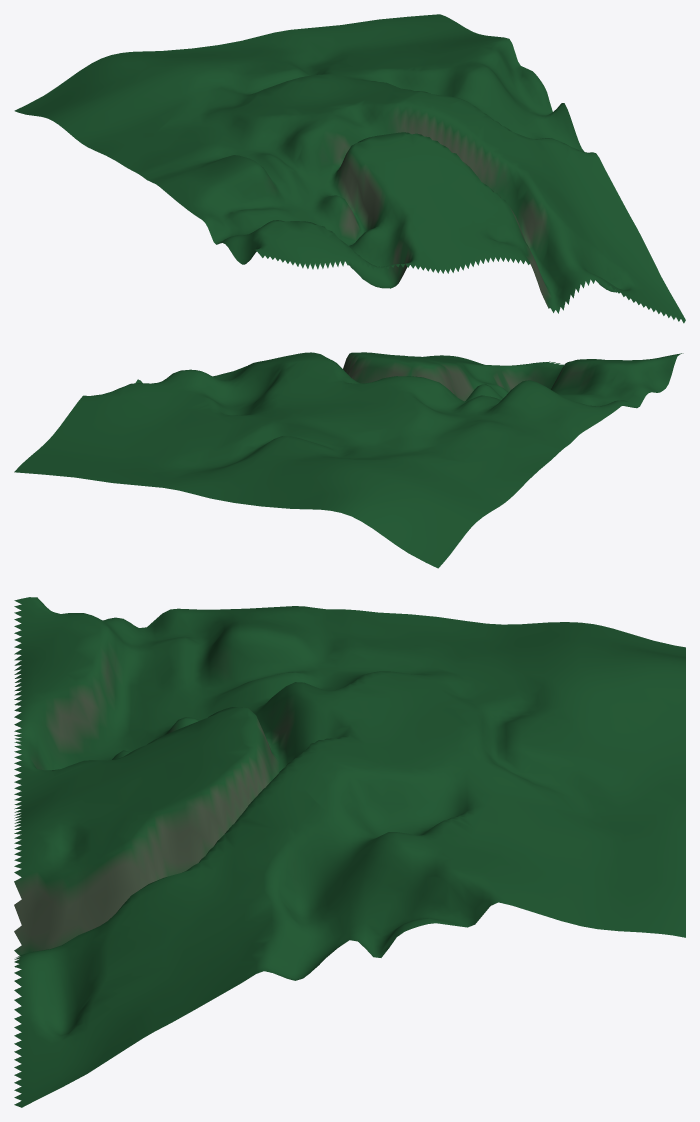
Rendered from payo_land_x0_ym2_lod1.glb.
3 renders of one model, top to bottom at view 1: azimuth 30°, elevation 25°; view 2: azimuth 150°, elevation 25°; view 3: azimuth 270°, elevation 25°, orthographic. The views are drawn at different scales.
Visible parts, largest first — view 1: payo_land_x0_ym2; view 2: payo_land_x0_ym2; view 3: payo_land_x0_ym2.
Part boxes in pixels (box(x1,y1,x2,y2)): payo_land_x0_ym2: box(14, 14, 685, 323); payo_land_x0_ym2: box(14, 352, 683, 568); payo_land_x0_ym2: box(14, 597, 685, 1107).
Bounding box in the file's own units: 255 × 104 × 258.
